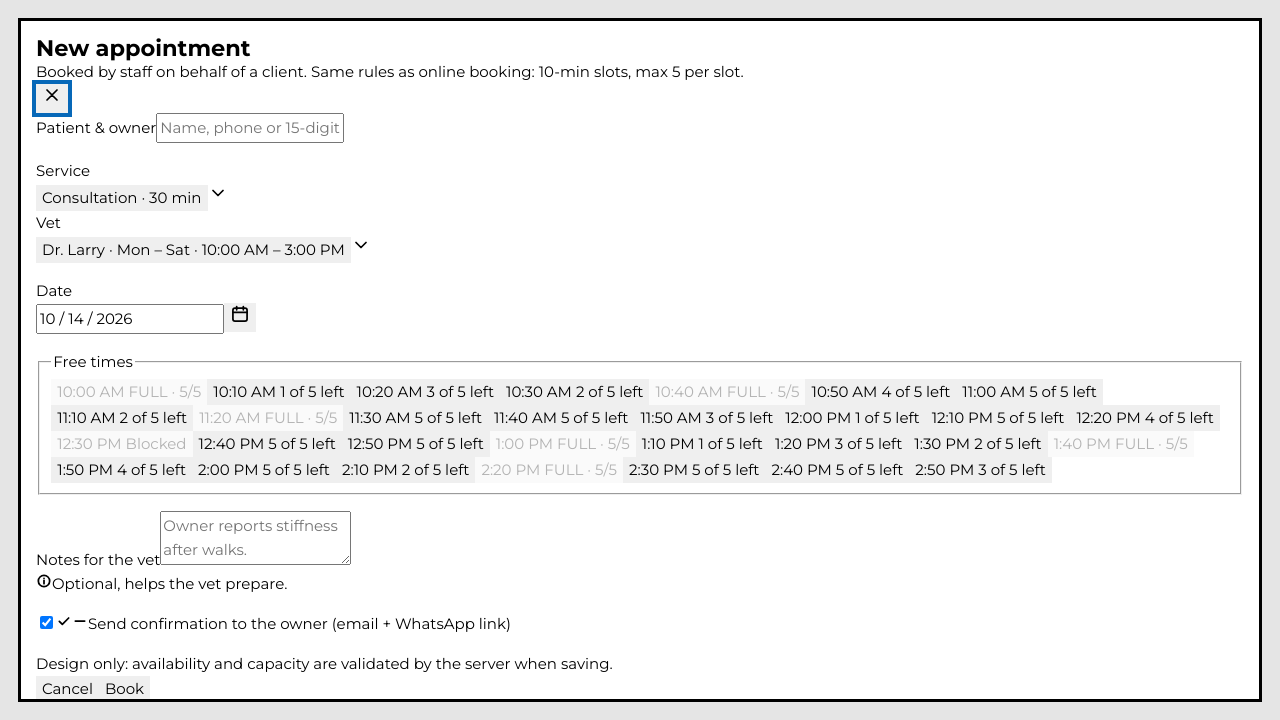
AppointmentModal › asks for the patient and a time before booking
Click the button "Book". click: (124,689)
box: [99,676,150,702]
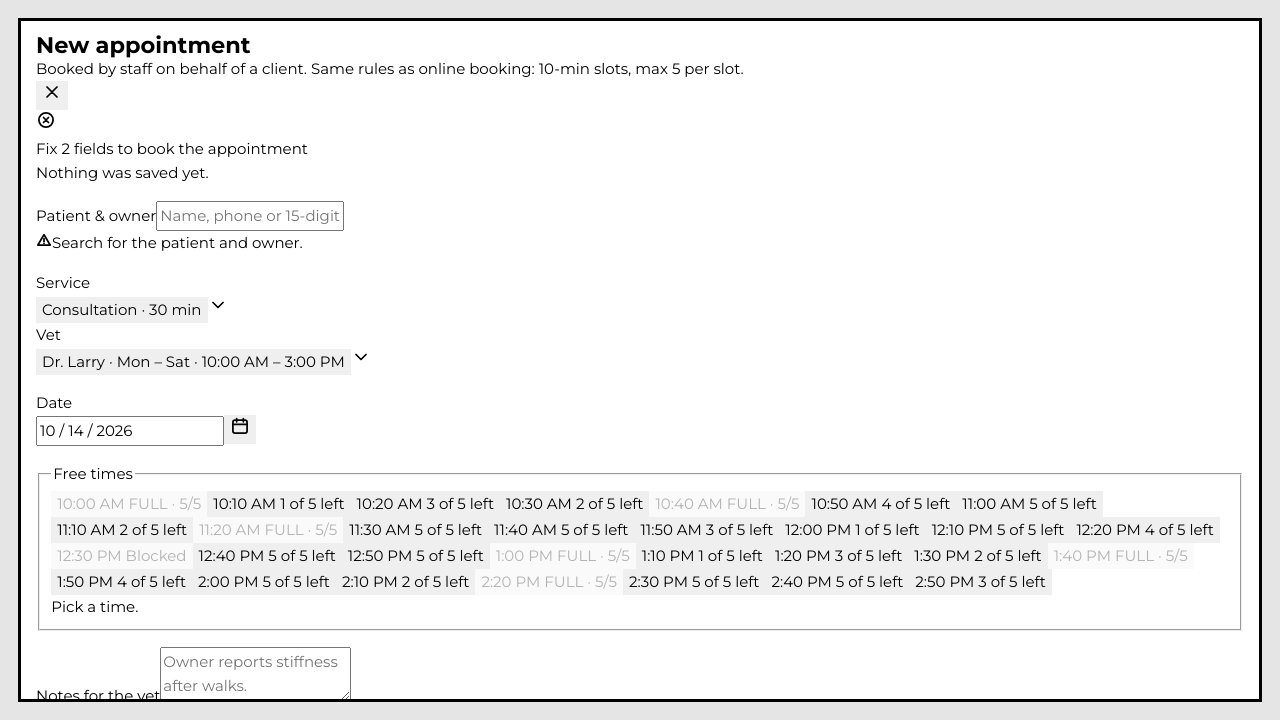
Result: the text "Search for the patient and owner." is shown at [52,233,303,252]
Result: the text "Pick a time." is shown at [51,597,138,616]
